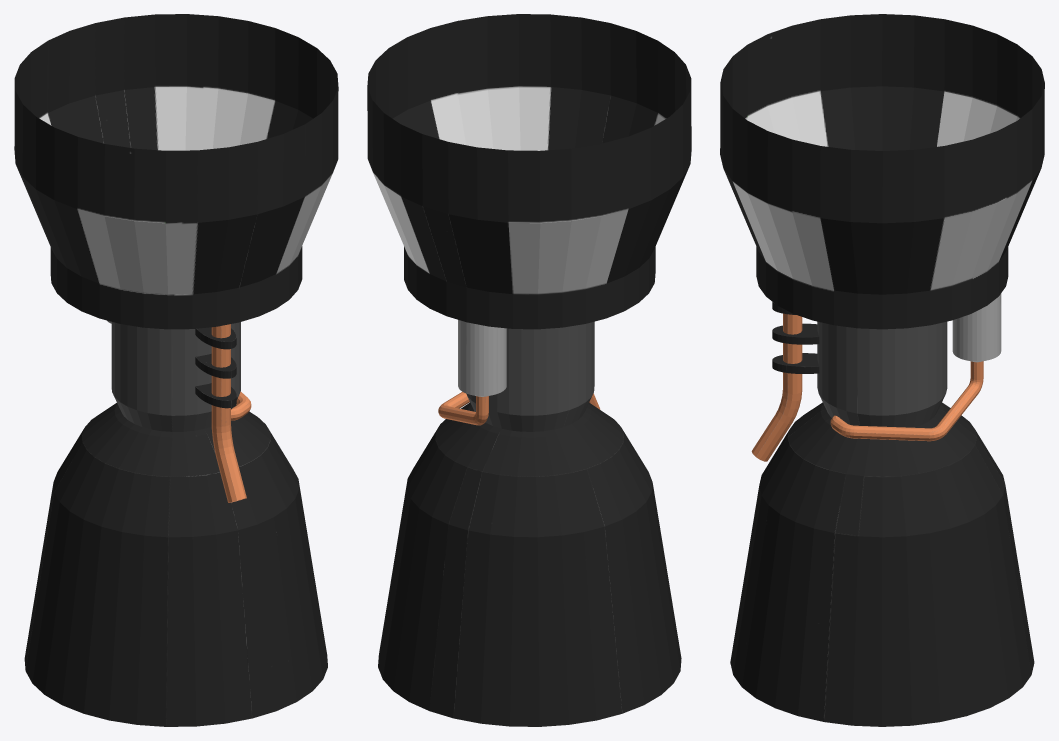
File: Exhaust.fbx
3 renders of one model, left to right at view 1: azimuth 30°, elevation 25°; view 2: azimuth 150°, elevation 25°; view 3: azimuth 270°, elevation 25°, orthographic.
Parts seen in each view (by area): view 1: Exhaust; view 2: Exhaust; view 3: Exhaust.
Boxes of the visible parts, <box> form: Exhaust: <box>14,14,338,726</box>; Exhaust: <box>367,14,691,726</box>; Exhaust: <box>720,14,1044,726</box>.
Size of the model in its own units: 2 by 3.96 by 2.
Materials: 1 (1 with a texture image).
